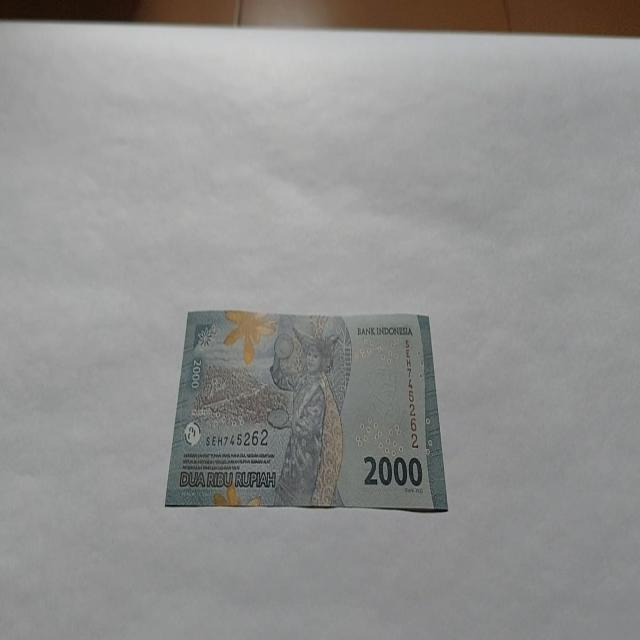dua ribu rupiah: (164, 308, 448, 512), (267, 324, 345, 506)
